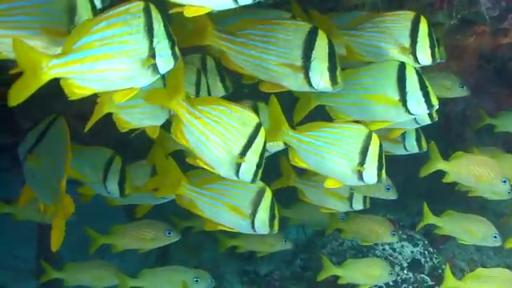Fish: (8, 0, 180, 106), (152, 60, 265, 183), (172, 16, 342, 91), (267, 96, 386, 187), (148, 156, 278, 234), (294, 61, 439, 123), (18, 115, 75, 251), (311, 11, 443, 66), (176, 170, 278, 234), (0, 0, 103, 59), (271, 157, 369, 212), (84, 76, 170, 138), (420, 142, 511, 199), (105, 160, 174, 218), (416, 203, 502, 246), (69, 144, 129, 197), (86, 220, 180, 253), (317, 256, 396, 287), (326, 213, 399, 244), (40, 260, 120, 287), (184, 53, 232, 96), (119, 266, 215, 287), (209, 7, 292, 31), (217, 232, 293, 256), (106, 192, 174, 218), (148, 128, 192, 165), (441, 264, 511, 287), (168, 0, 259, 17), (279, 201, 330, 229), (422, 69, 470, 98), (376, 128, 427, 155), (472, 147, 511, 179), (0, 200, 52, 223), (349, 177, 398, 199), (386, 111, 438, 129), (240, 100, 270, 130), (126, 160, 155, 191), (475, 110, 511, 132), (170, 216, 206, 231), (504, 238, 511, 248)
